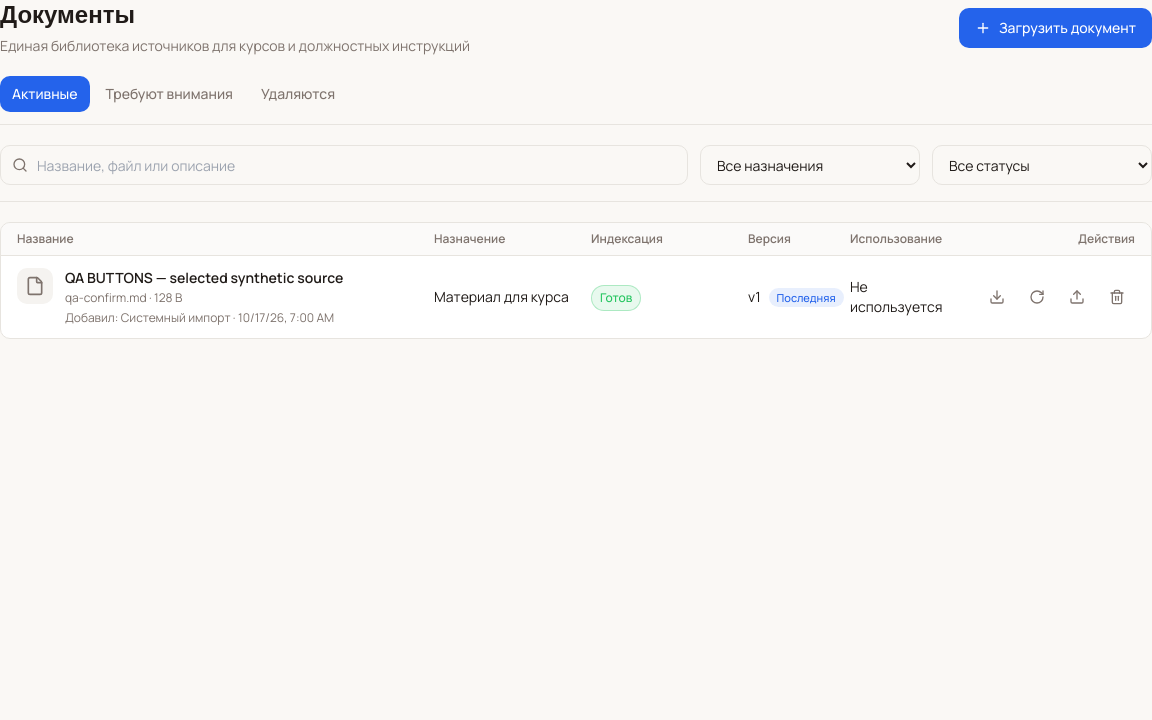
Scenario: document library empty-state intent › names the selected source in the real delete confirmation and cancels without a write
Click the button named "Удалить: QA BUTTONS — selected synthetic source" at (1117, 297), box [1099, 279, 1135, 315]
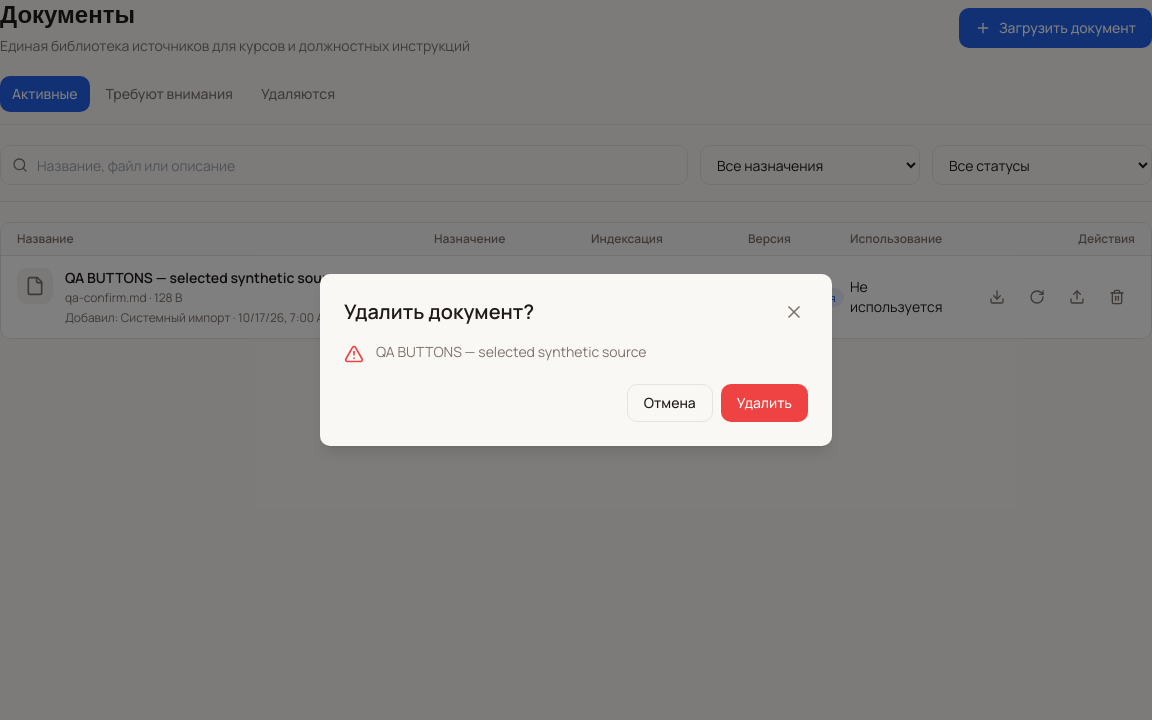
Check: the text "QA BUTTONS — selected synthetic source" is shown, box [376, 342, 647, 362]
Click the button "Отмена" at (670, 403), box [627, 384, 713, 422]
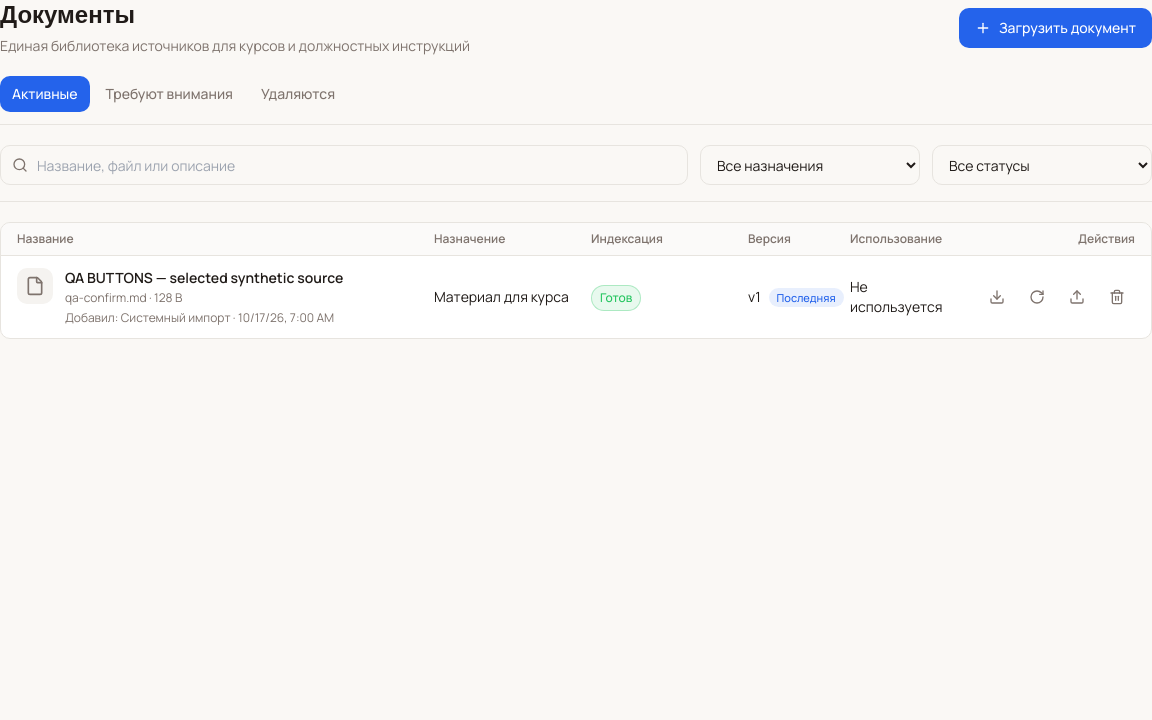
Check: the dialog is gone
